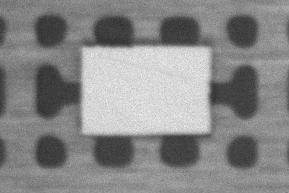DIE_CRACK: (145, 37, 288, 53)
